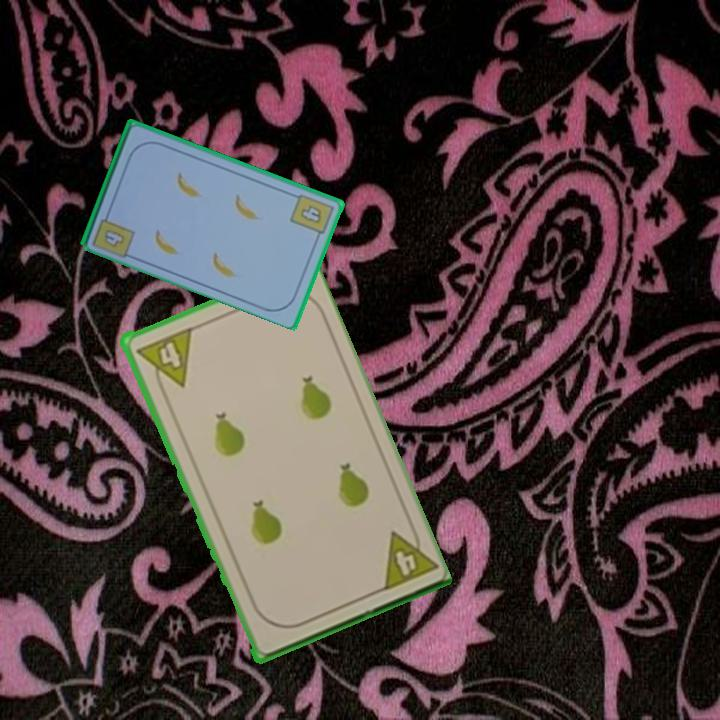4b: (287, 190, 336, 243), (101, 225, 128, 250)
4p: (375, 519, 438, 594), (131, 324, 195, 396)
